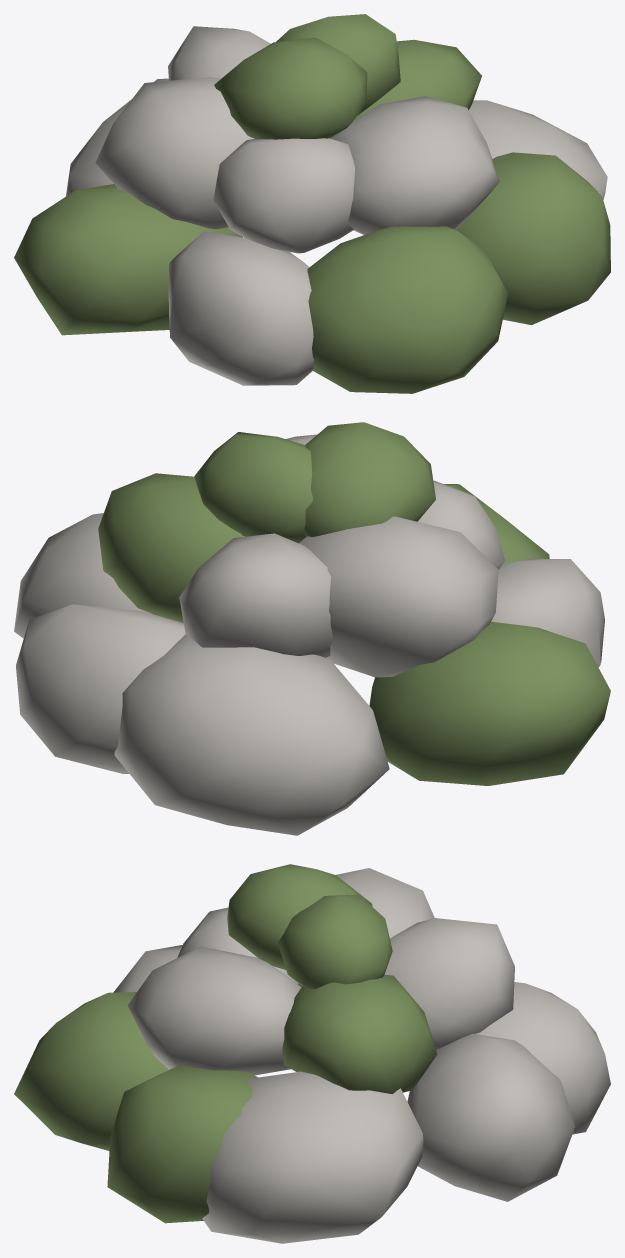
File: hiis_boundary_cairn.glb
3 views of the same model, one above another, from view 1: azimuth 30°, elevation 25°; view 2: azimuth 150°, elevation 25°; view 3: azimuth 270°, elevation 25° (orthographic). The views are drawn at different scales.
Parts seen in each view (by area): view 1: hiis_boundary_cairn; view 2: hiis_boundary_cairn; view 3: hiis_boundary_cairn.
Boxes of the visible parts, x1=… form: hiis_boundary_cairn: x1=14, y1=14, x2=610, y2=393; hiis_boundary_cairn: x1=14, y1=422, x2=610, y2=835; hiis_boundary_cairn: x1=14, y1=864, x2=610, y2=1243.
Bounding box in the file's own units: 1.64 × 0.8033 × 1.61.
